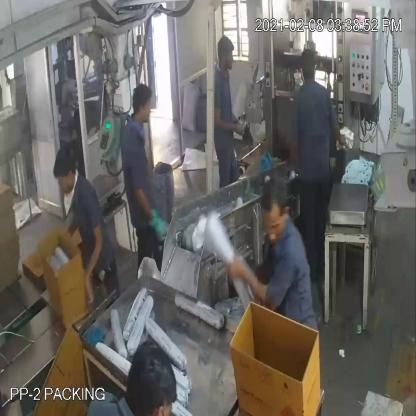glove: (126, 179, 176, 258)
no_glove: (222, 244, 278, 322), (80, 211, 104, 307)
